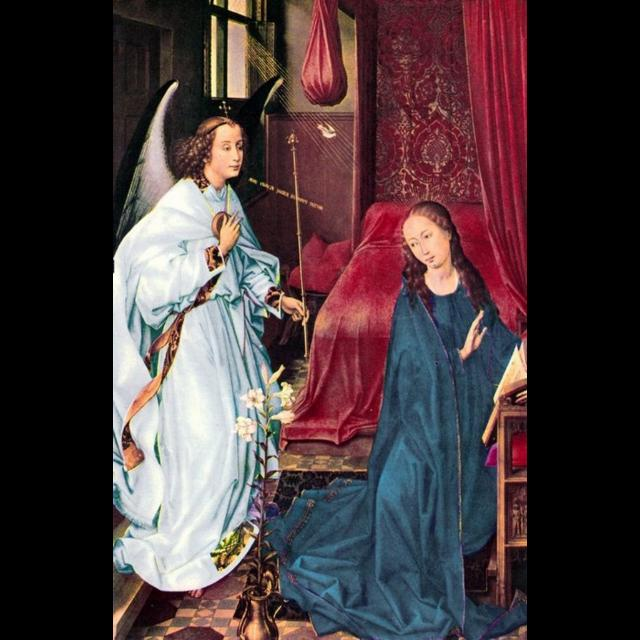Flower: (236, 384, 270, 414), (230, 418, 256, 444), (270, 408, 300, 428), (272, 384, 298, 404), (268, 364, 286, 386), (258, 360, 270, 388)
